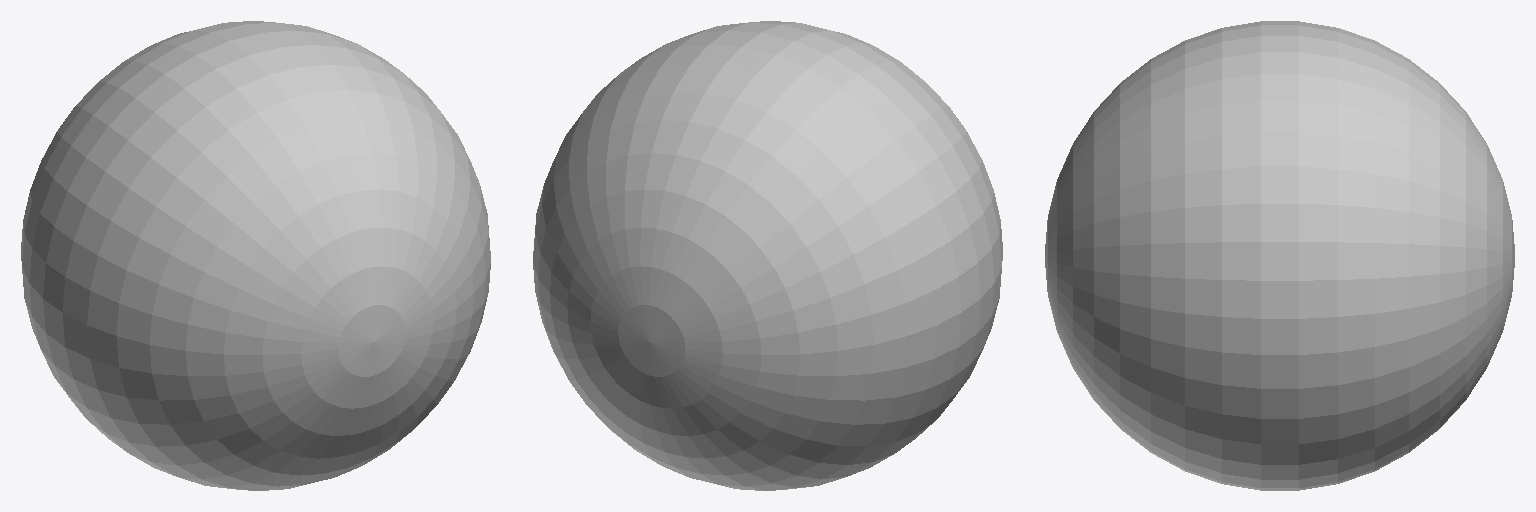
The model's file is ovario_externo.obj.
3 views of the same model, side by side, from view 1: azimuth 30°, elevation 25°; view 2: azimuth 150°, elevation 25°; view 3: azimuth 270°, elevation 25° (orthographic).
Visible parts, largest first — view 1: MeshBody1; view 2: MeshBody1; view 3: MeshBody1.
Boxes of the visible parts, box(x1,y1,x2,y2) form: MeshBody1: box(21, 21, 490, 490); MeshBody1: box(533, 21, 1002, 490); MeshBody1: box(1045, 21, 1514, 490).
Size of the model in its own units: 2.99 by 2.98 by 3.